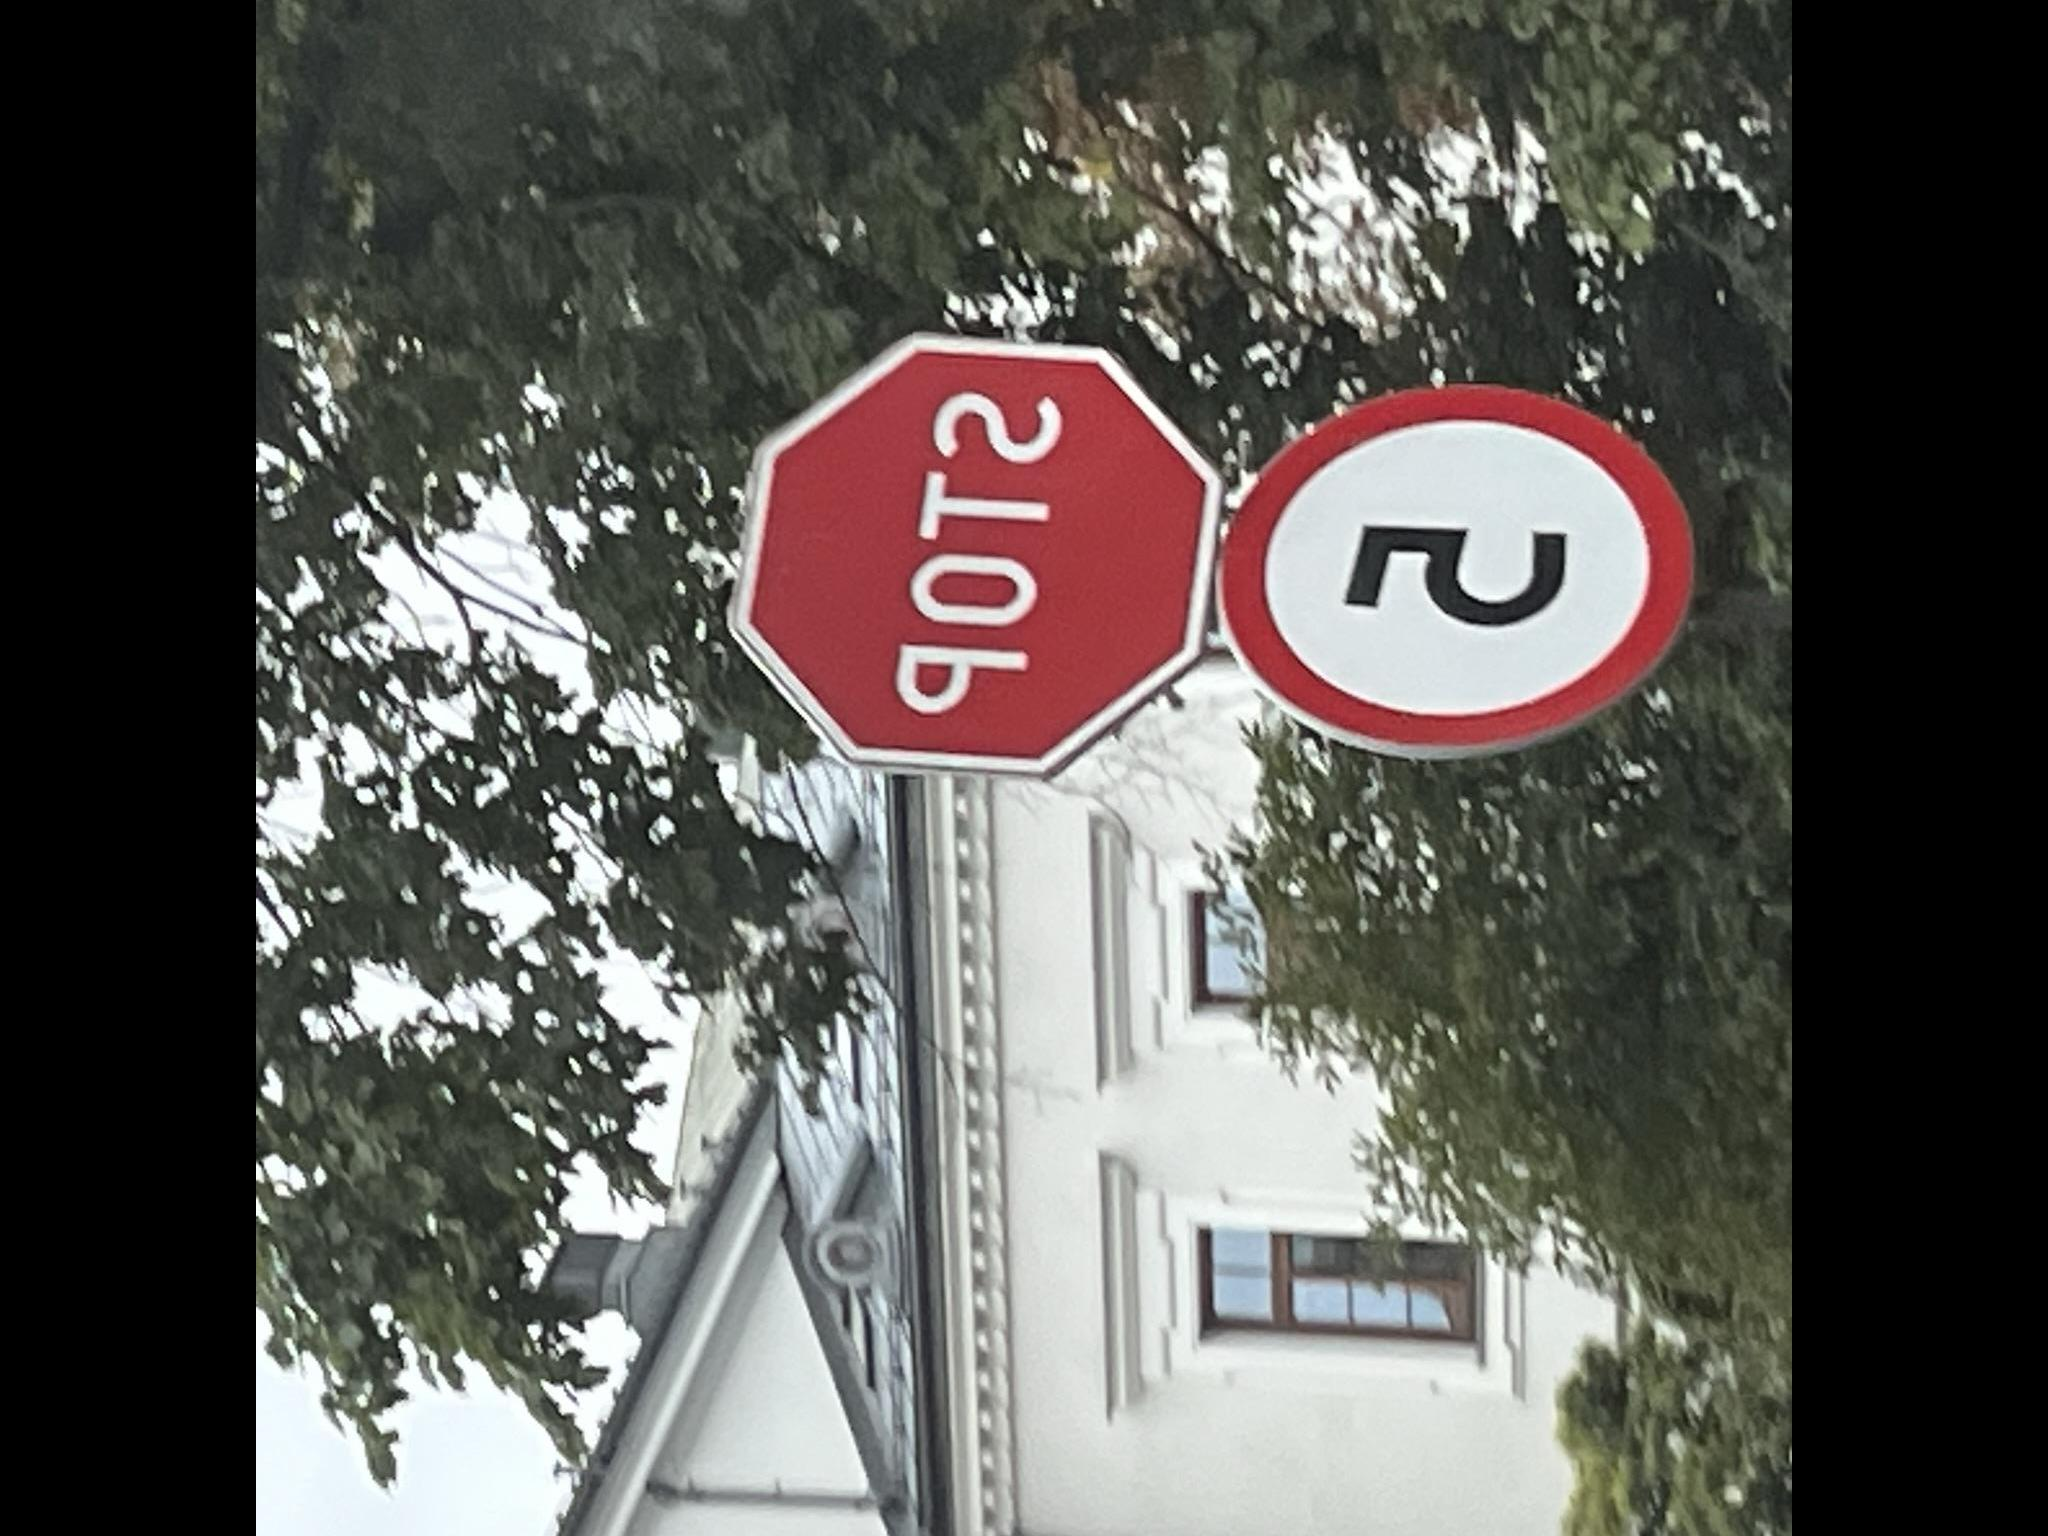prohibitory: (724, 328, 1226, 786), (1216, 381, 1705, 765)
